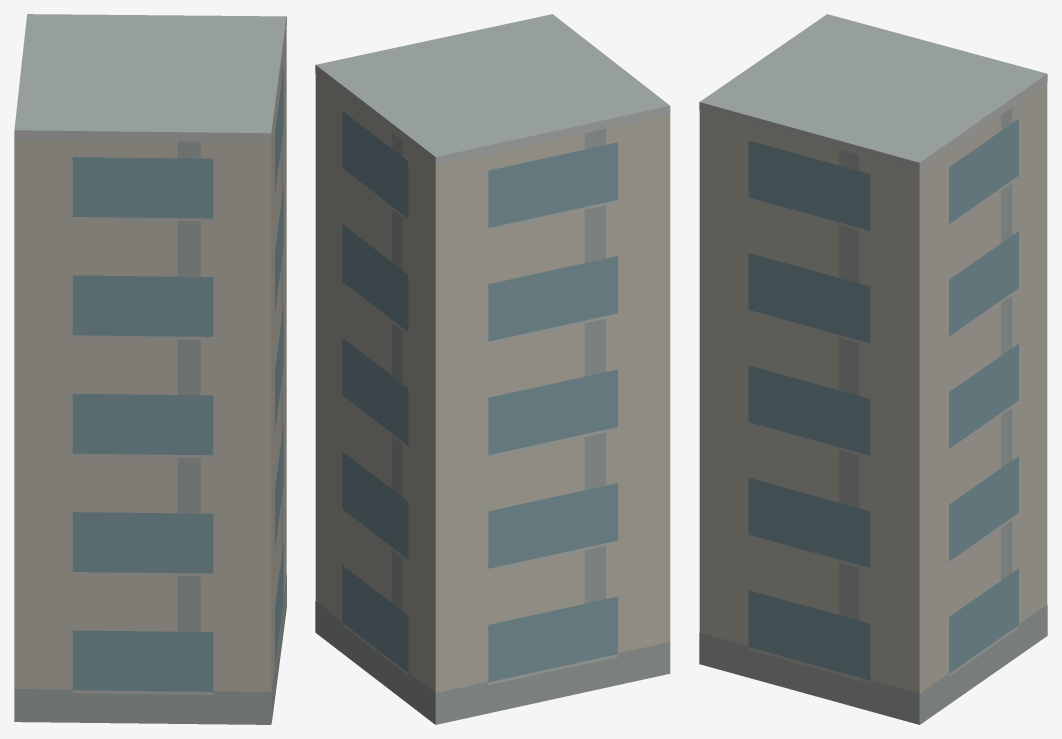
Rendered from survey-upis-32742439.glb.
3 views of the same model, side by side, from view 1: azimuth 30°, elevation 25°; view 2: azimuth 150°, elevation 25°; view 3: azimuth 270°, elevation 25° (orthographic). The views are drawn at different scales.
Visible parts, largest first — view 1: survey-upis-32742439.tmp; view 2: survey-upis-32742439.tmp; view 3: survey-upis-32742439.tmp.
Part boxes in pixels (<box>): survey-upis-32742439.tmp: <box>14,14,286,724</box>; survey-upis-32742439.tmp: <box>315,14,670,724</box>; survey-upis-32742439.tmp: <box>699,14,1047,724</box>.
Bounding box in the file's own units: 8.66 × 15.25 × 8.56.
